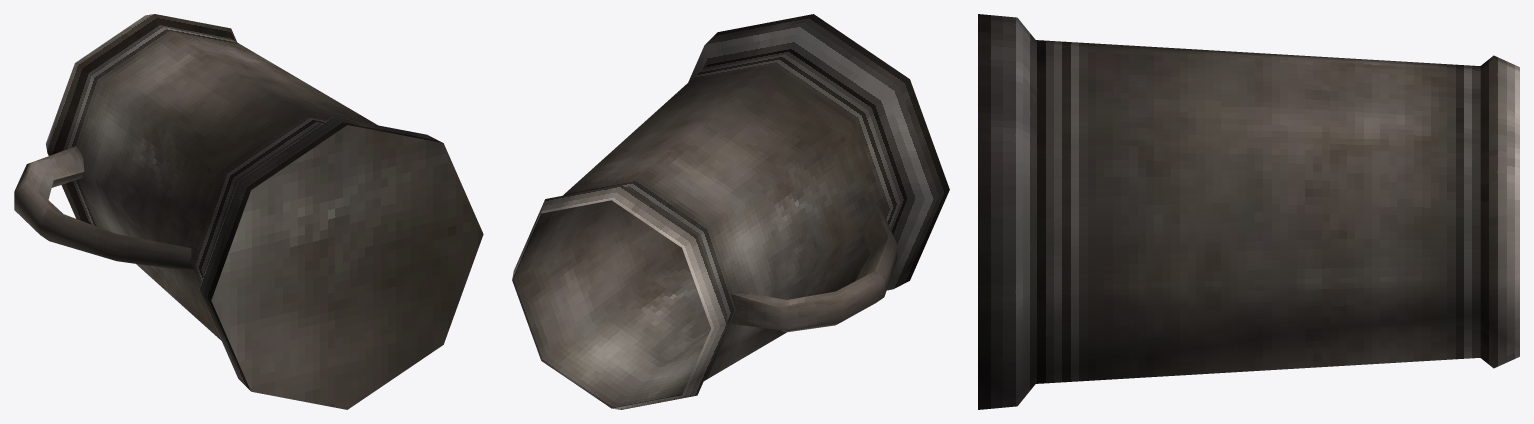
Rendered from pir_m_hnd_hsw_mug.fbx.
3 views of the same model, side by side, from view 1: azimuth 30°, elevation 25°; view 2: azimuth 150°, elevation 25°; view 3: azimuth 270°, elevation 25° (orthographic). The views are drawn at different scales.
Parts seen in each view (by area): view 1: mug_mesh, handle; view 2: mug_mesh, handle; view 3: mug_mesh.
Boxes of the visible parts, left/top/right/bottom form: mug_mesh: left=46, top=14, right=483, bottom=409; handle: left=14, top=146, right=193, bottom=271; mug_mesh: left=512, top=14, right=949, bottom=409; handle: left=731, top=206, right=897, bottom=332; mug_mesh: left=978, top=14, right=1519, bottom=409.
Bounding box in the file's own units: 59.68 × 49.99 × 64.26.
1 material, 1 textured.
